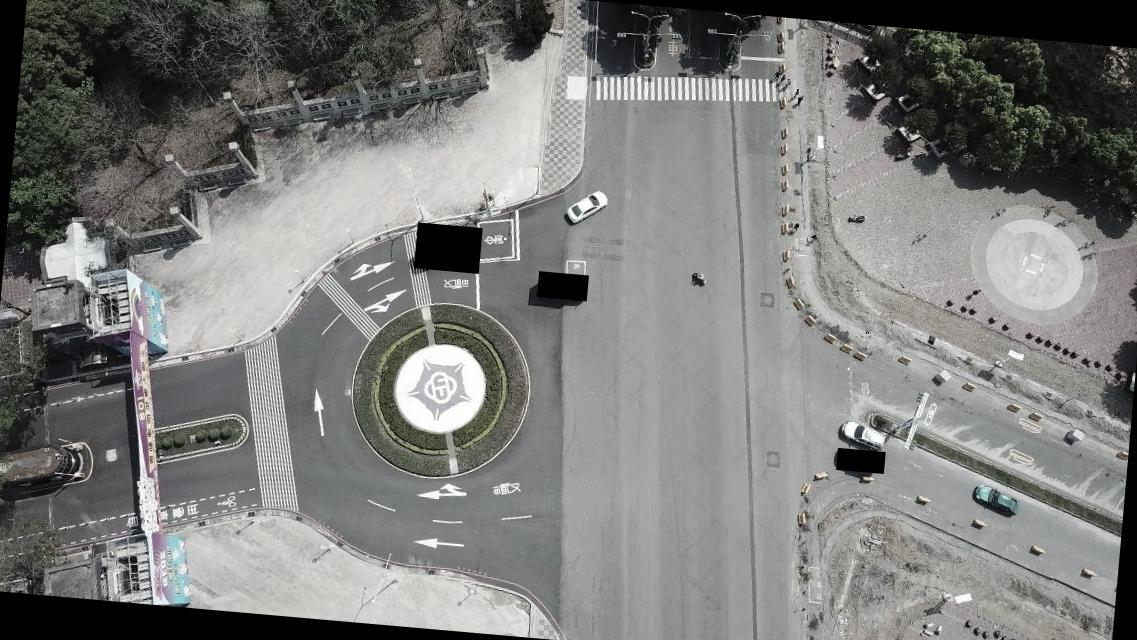vehicle: (564, 188, 608, 226), (973, 484, 1020, 516), (839, 419, 885, 451)
